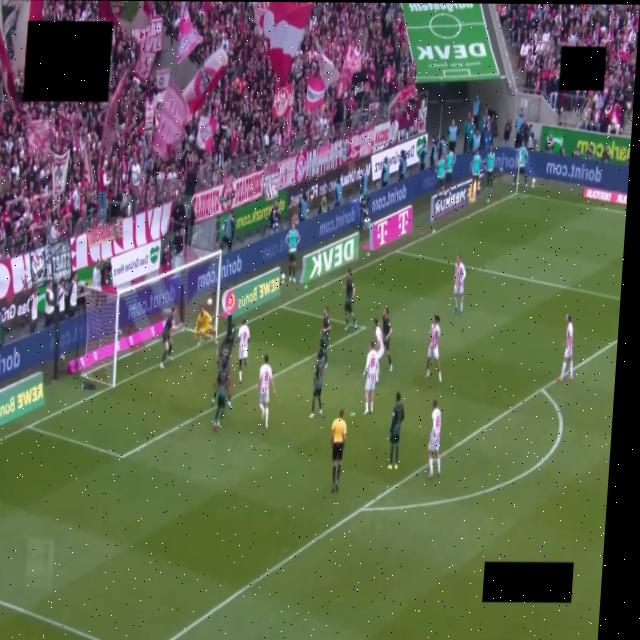ball: (206, 298, 211, 305)
player: (387, 392, 406, 470), (257, 354, 274, 428), (211, 349, 231, 409), (362, 341, 377, 414), (425, 314, 441, 382), (557, 314, 573, 380), (427, 399, 440, 478), (309, 350, 324, 418), (160, 305, 176, 368), (194, 306, 216, 345), (343, 269, 356, 330), (237, 318, 249, 382), (213, 373, 226, 432), (453, 256, 465, 315), (381, 308, 392, 371), (373, 319, 384, 382), (319, 307, 330, 368), (225, 314, 234, 352)
referee: (330, 410, 346, 492)
